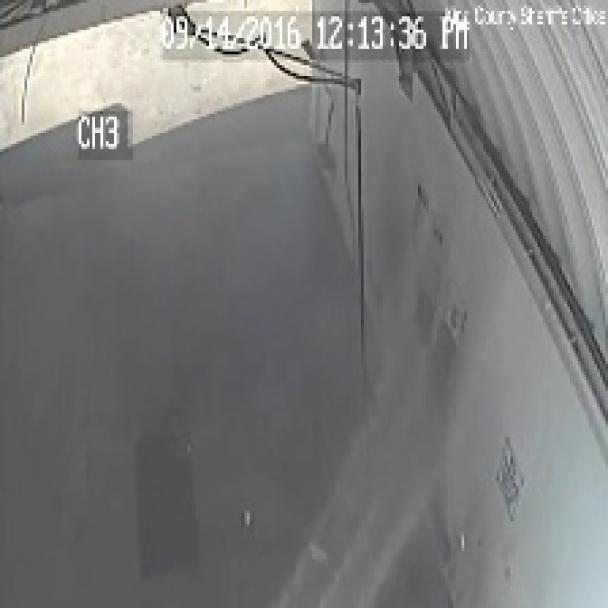smoke: (14, 86, 510, 607)
